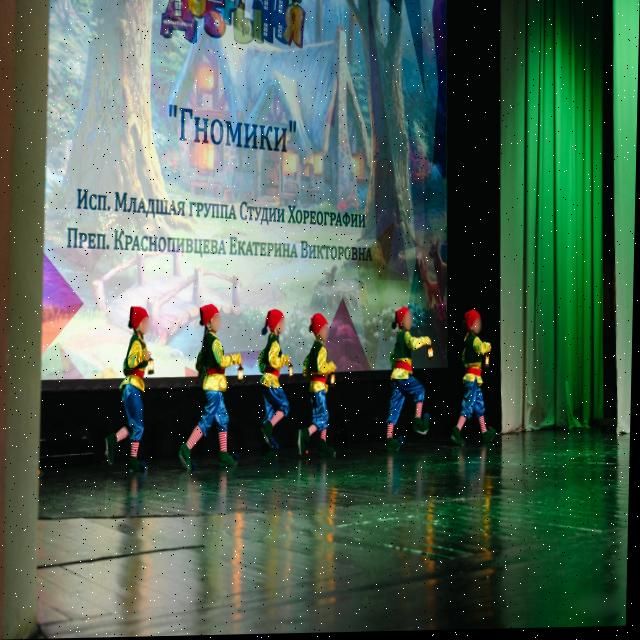Person: (180, 293, 244, 488), (104, 289, 166, 486), (381, 303, 438, 460), (253, 299, 300, 471), (452, 306, 501, 450), (298, 310, 341, 472)
